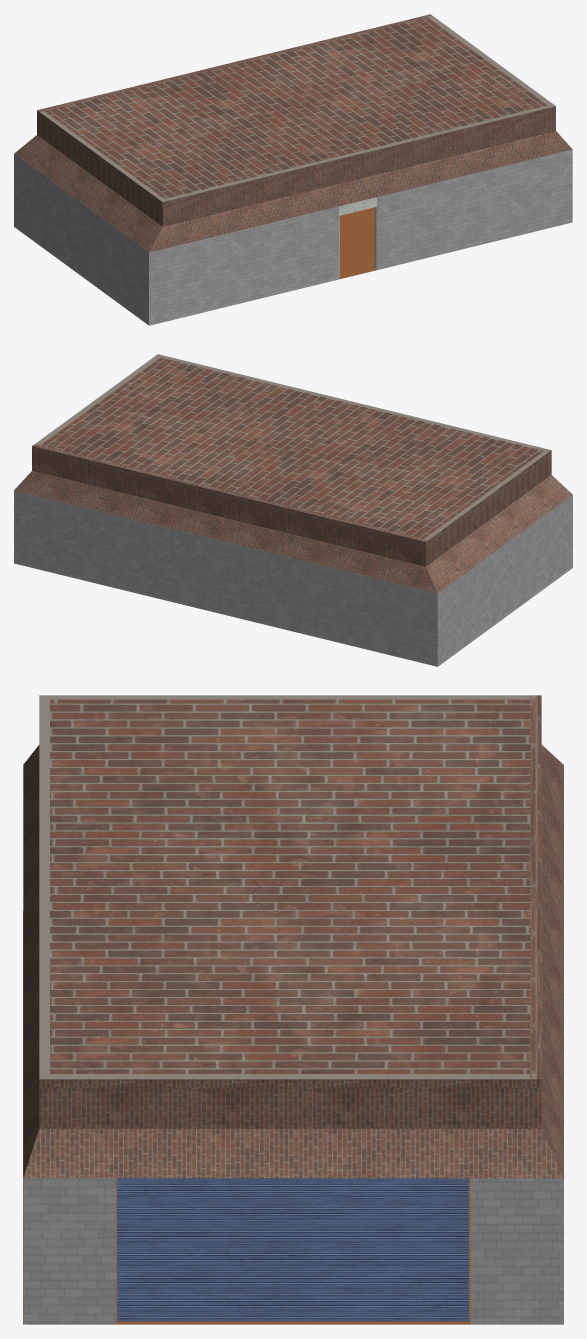
Rendered from Garage.fbx.
The picture shows the model from 3 angles, top to bottom: view 1: azimuth 30°, elevation 25°; view 2: azimuth 150°, elevation 25°; view 3: azimuth 270°, elevation 25°; orthographic projection. The views are drawn at different scales.
Visible parts, largest first — view 1: Garage_Wall, Garage_Ground; view 2: Garage_Wall; view 3: Garage_Wall, Garage_Shed, Garage_Ground.
Part boxes in pixels (x1,y1,x2,y2): Garage_Wall: (14,14,572,325); Garage_Ground: (339,207,377,279); Garage_Wall: (14,354,572,666); Garage_Wall: (23,695,563,1324); Garage_Shed: (117,1178,468,1321); Garage_Ground: (23,911,470,1324).
Bounding box in the file's own units: 121 × 31.99 × 67.01.
